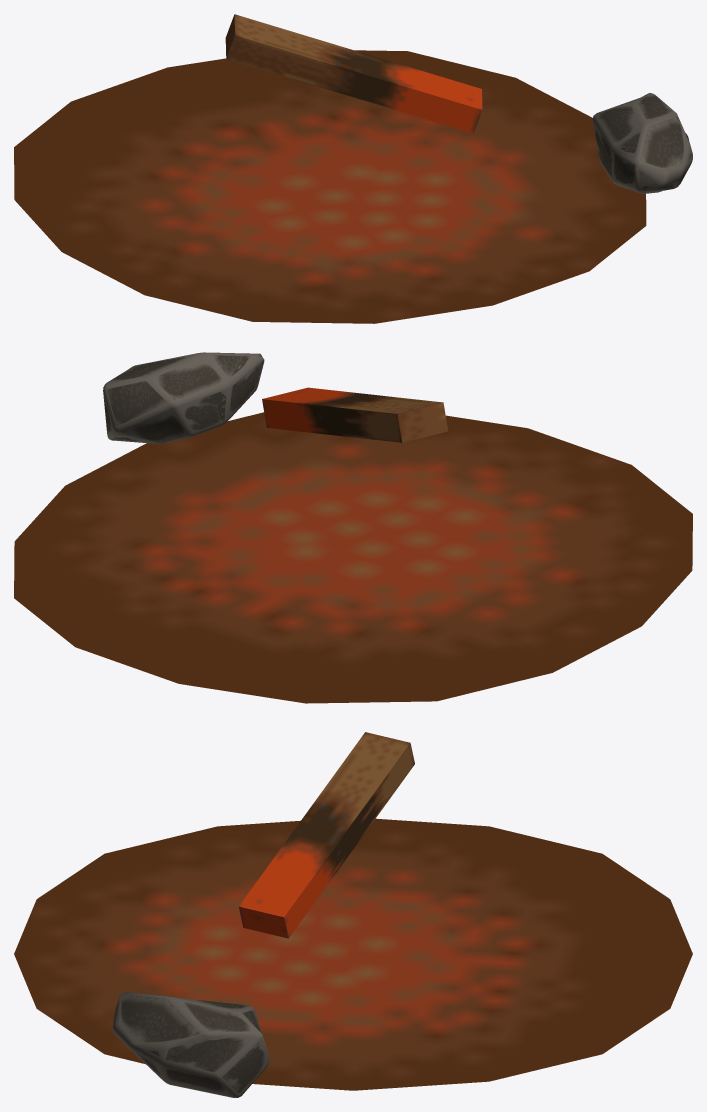
File: fireplace.fbx
3 views of the same model, one above another, from view 1: azimuth 30°, elevation 25°; view 2: azimuth 150°, elevation 25°; view 3: azimuth 270°, elevation 25° (orthographic). The views are drawn at different scales.
Visible parts, largest first — view 1: Ground, Cube_15, Cube; view 2: Ground, Cube, Cube_15; view 3: Ground, Cube_15, Cube.
Boxes of the visible parts, x1=… form: Ground: x1=14, y1=50, x2=646, y2=323; Cube_15: x1=225, y1=14, x2=482, y2=133; Cube: x1=592, y1=93, x2=692, y2=193; Ground: x1=14, y1=412, x2=692, y2=703; Cube: x1=103, y1=352, x2=264, y2=443; Cube_15: x1=262, y1=387, x2=448, y2=442; Ground: x1=14, y1=818, x2=692, y2=1090; Cube_15: x1=238, y1=732, x2=414, y2=938; Cube: x1=113, y1=992, x2=269, y2=1097.
Size of the model in its own units: 346 by 101 by 348.
